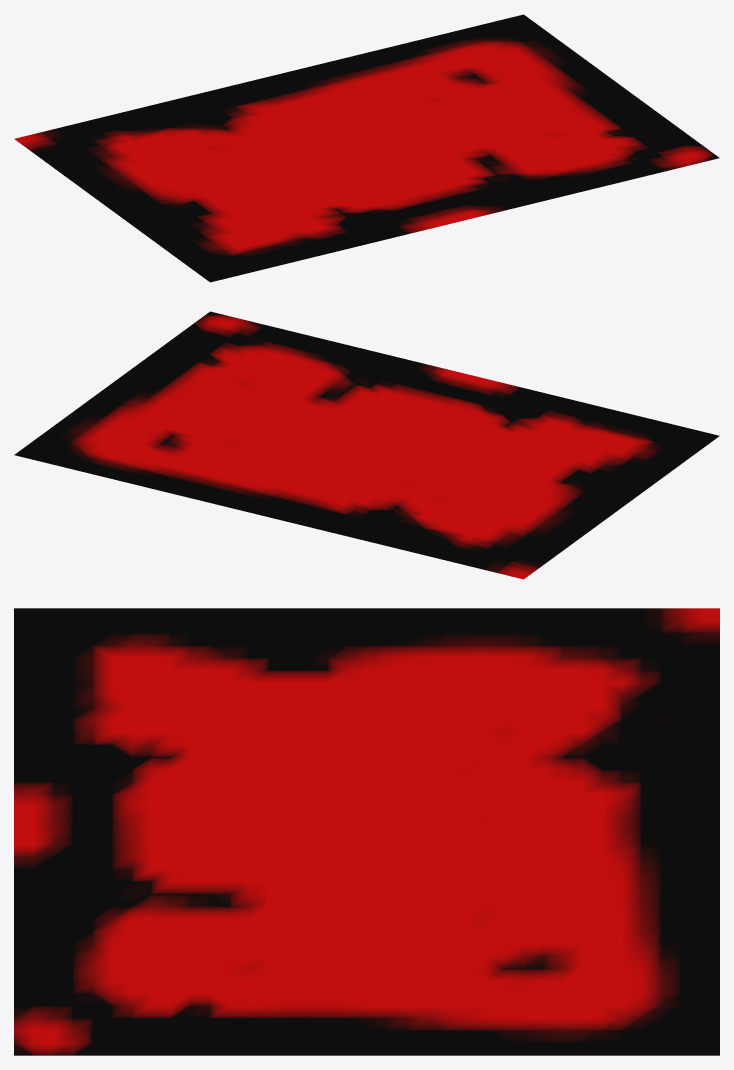
The model's file is Ground.glb.
3 renders of one model, top to bottom at view 1: azimuth 30°, elevation 25°; view 2: azimuth 150°, elevation 25°; view 3: azimuth 270°, elevation 25°, orthographic. The views are drawn at different scales.
Parts seen in each view (by area): view 1: Grid; view 2: Grid; view 3: Grid.
Boxes of the visible parts, left/top/right/bottom form: Grid: left=14, top=14, right=719, bottom=282; Grid: left=14, top=311, right=719, bottom=579; Grid: left=14, top=608, right=719, bottom=1055.
Size of the model in its own units: 30 by 0 by 20.
